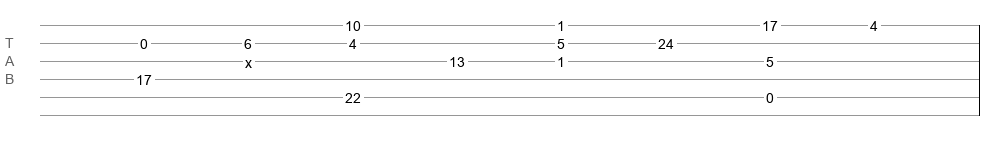0: (140, 36, 148, 46), (766, 90, 774, 100)
1: (557, 54, 565, 64), (557, 18, 565, 28)
10: (345, 18, 361, 28)
13: (449, 54, 465, 64)
17: (136, 72, 152, 82), (762, 18, 778, 28)
22: (345, 90, 361, 100)
24: (658, 36, 674, 46)
4: (349, 36, 357, 46), (870, 18, 878, 28)
5: (557, 36, 565, 46), (766, 54, 774, 64)
6: (244, 36, 252, 46)
x: (245, 55, 252, 63)
